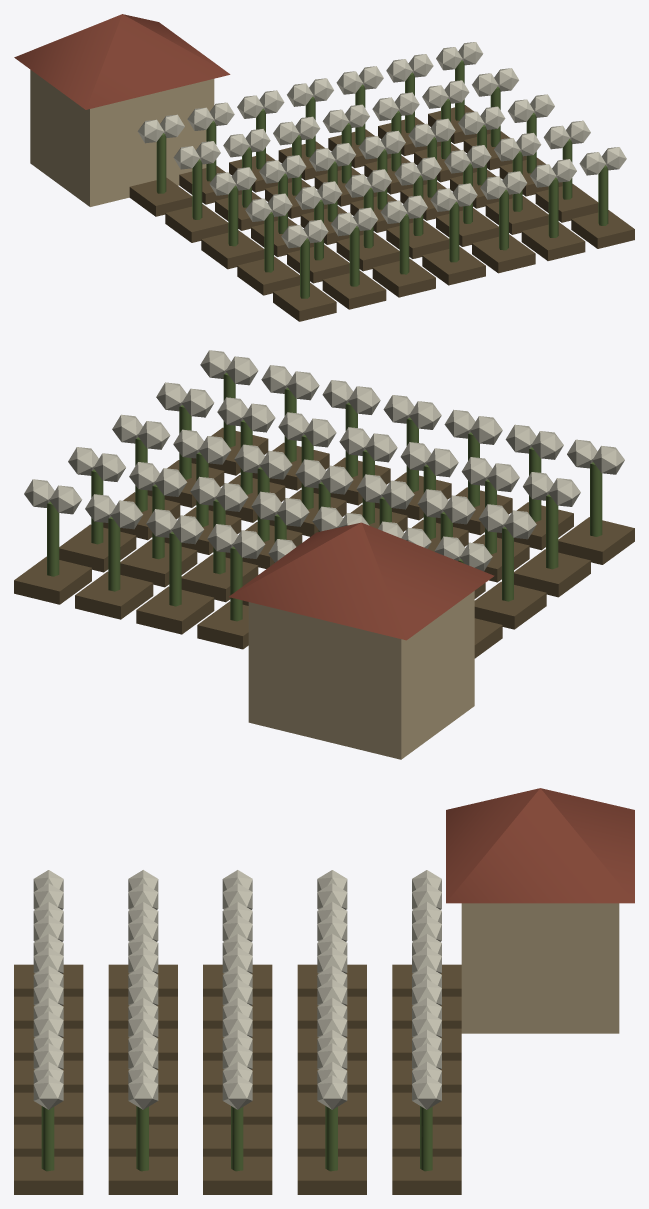
File: custom-imp-cottonfarm.glb
3 views of the same model, one above another, from view 1: azimuth 30°, elevation 25°; view 2: azimuth 150°, elevation 25°; view 3: azimuth 270°, elevation 25° (orthographic). The views are drawn at different scales.
Parts seen in each view (by area): view 1: custom-imp-cottonfarm; view 2: custom-imp-cottonfarm; view 3: custom-imp-cottonfarm.
Boxes of the visible parts, x1,y1,x2,y2 form: custom-imp-cottonfarm: (14,14,634,321); custom-imp-cottonfarm: (14,350,634,759); custom-imp-cottonfarm: (14,788,634,1194).
Bounding box in the file's own units: 0.948 × 0.3655 × 1.
